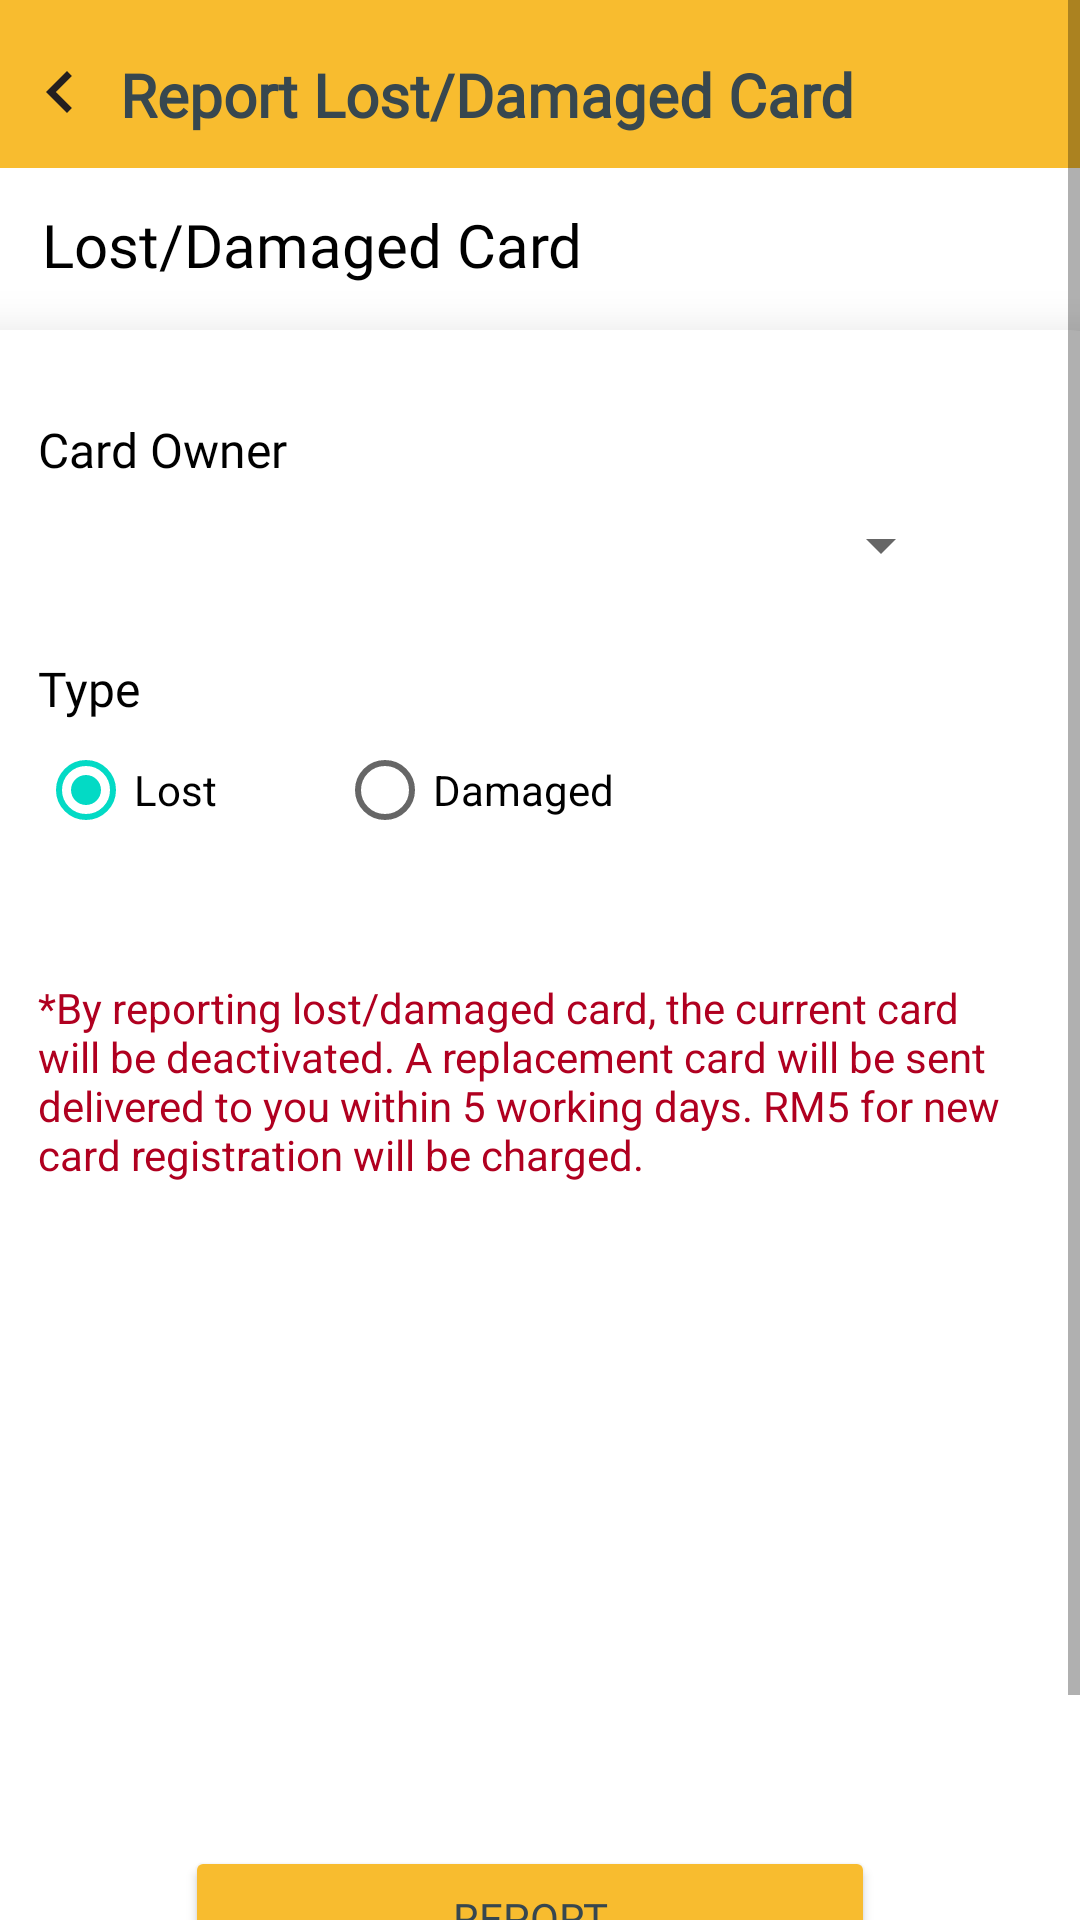

Point at icon controls on the screen. Image size 1080×1920, points as (x,y).
chevron left: (59,92)
